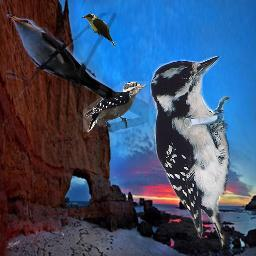Cuckoo: (6, 13, 116, 99), (81, 14, 115, 48)
Woodpecker: (150, 56, 234, 249), (83, 81, 149, 132)
